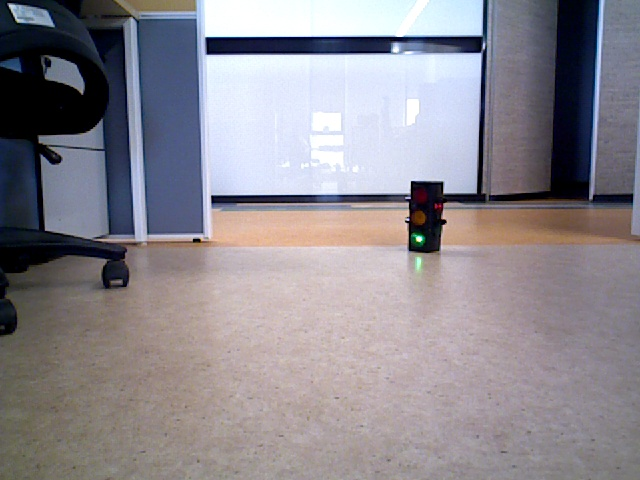green: (411, 181, 437, 246)
